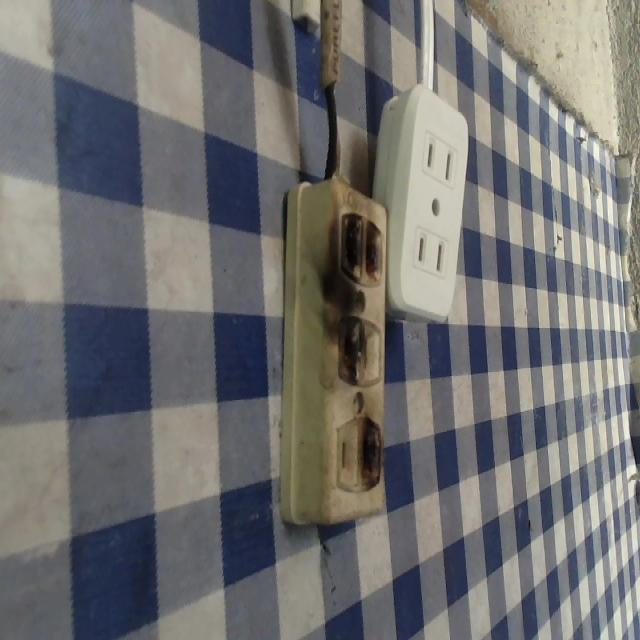-: (332, 208, 388, 293), (352, 404, 389, 493), (331, 305, 365, 395)
